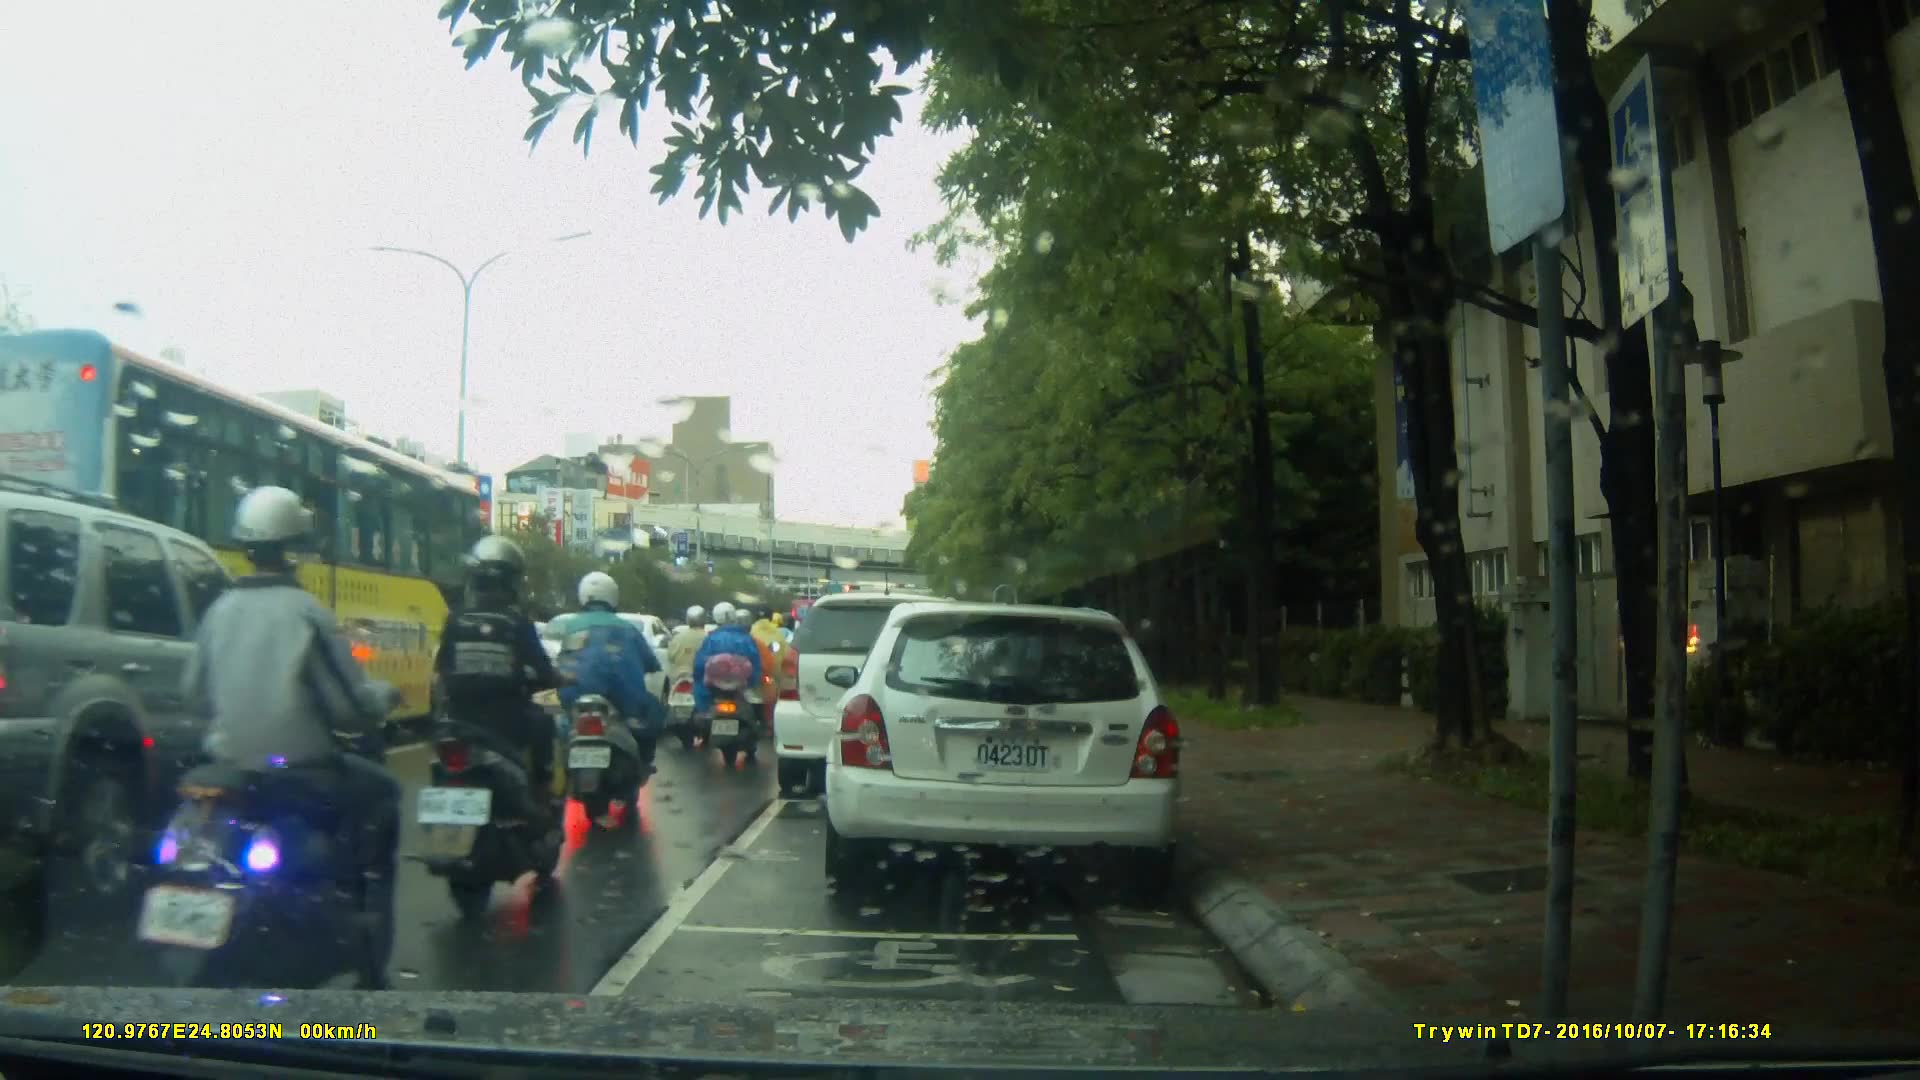rider: (116, 479, 385, 1030), (418, 532, 579, 918), (561, 570, 673, 826), (691, 603, 783, 764), (660, 601, 722, 750), (737, 594, 793, 723)
vehicle: (1, 324, 500, 780), (1, 466, 368, 941), (835, 594, 1194, 898), (776, 590, 1026, 784)
